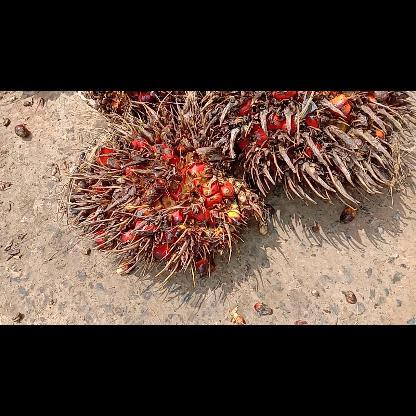Terlalu masak: (63, 113, 271, 289), (183, 90, 415, 212)
